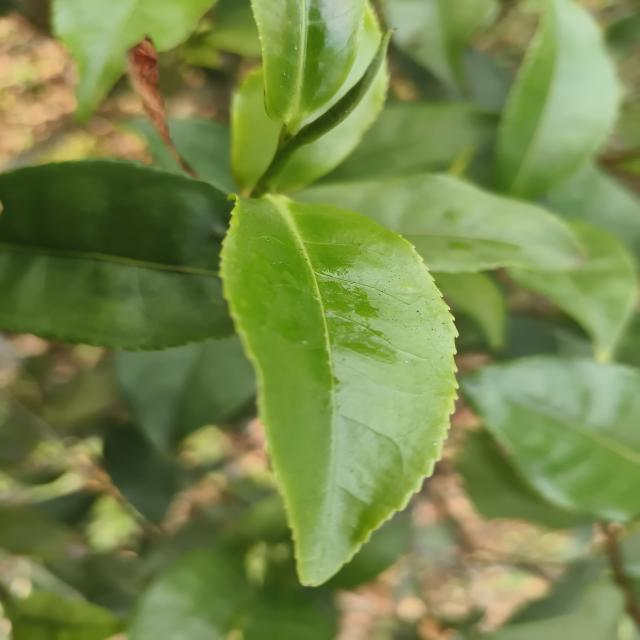Leaf: (220, 195, 456, 586), (0, 160, 233, 350), (461, 356, 640, 523), (294, 174, 583, 272), (494, 0, 620, 199), (51, 0, 213, 120), (508, 222, 637, 362), (116, 335, 256, 453), (252, 0, 365, 133), (317, 102, 497, 184), (128, 545, 249, 640), (384, 0, 497, 95), (485, 563, 623, 640), (103, 423, 178, 523)
